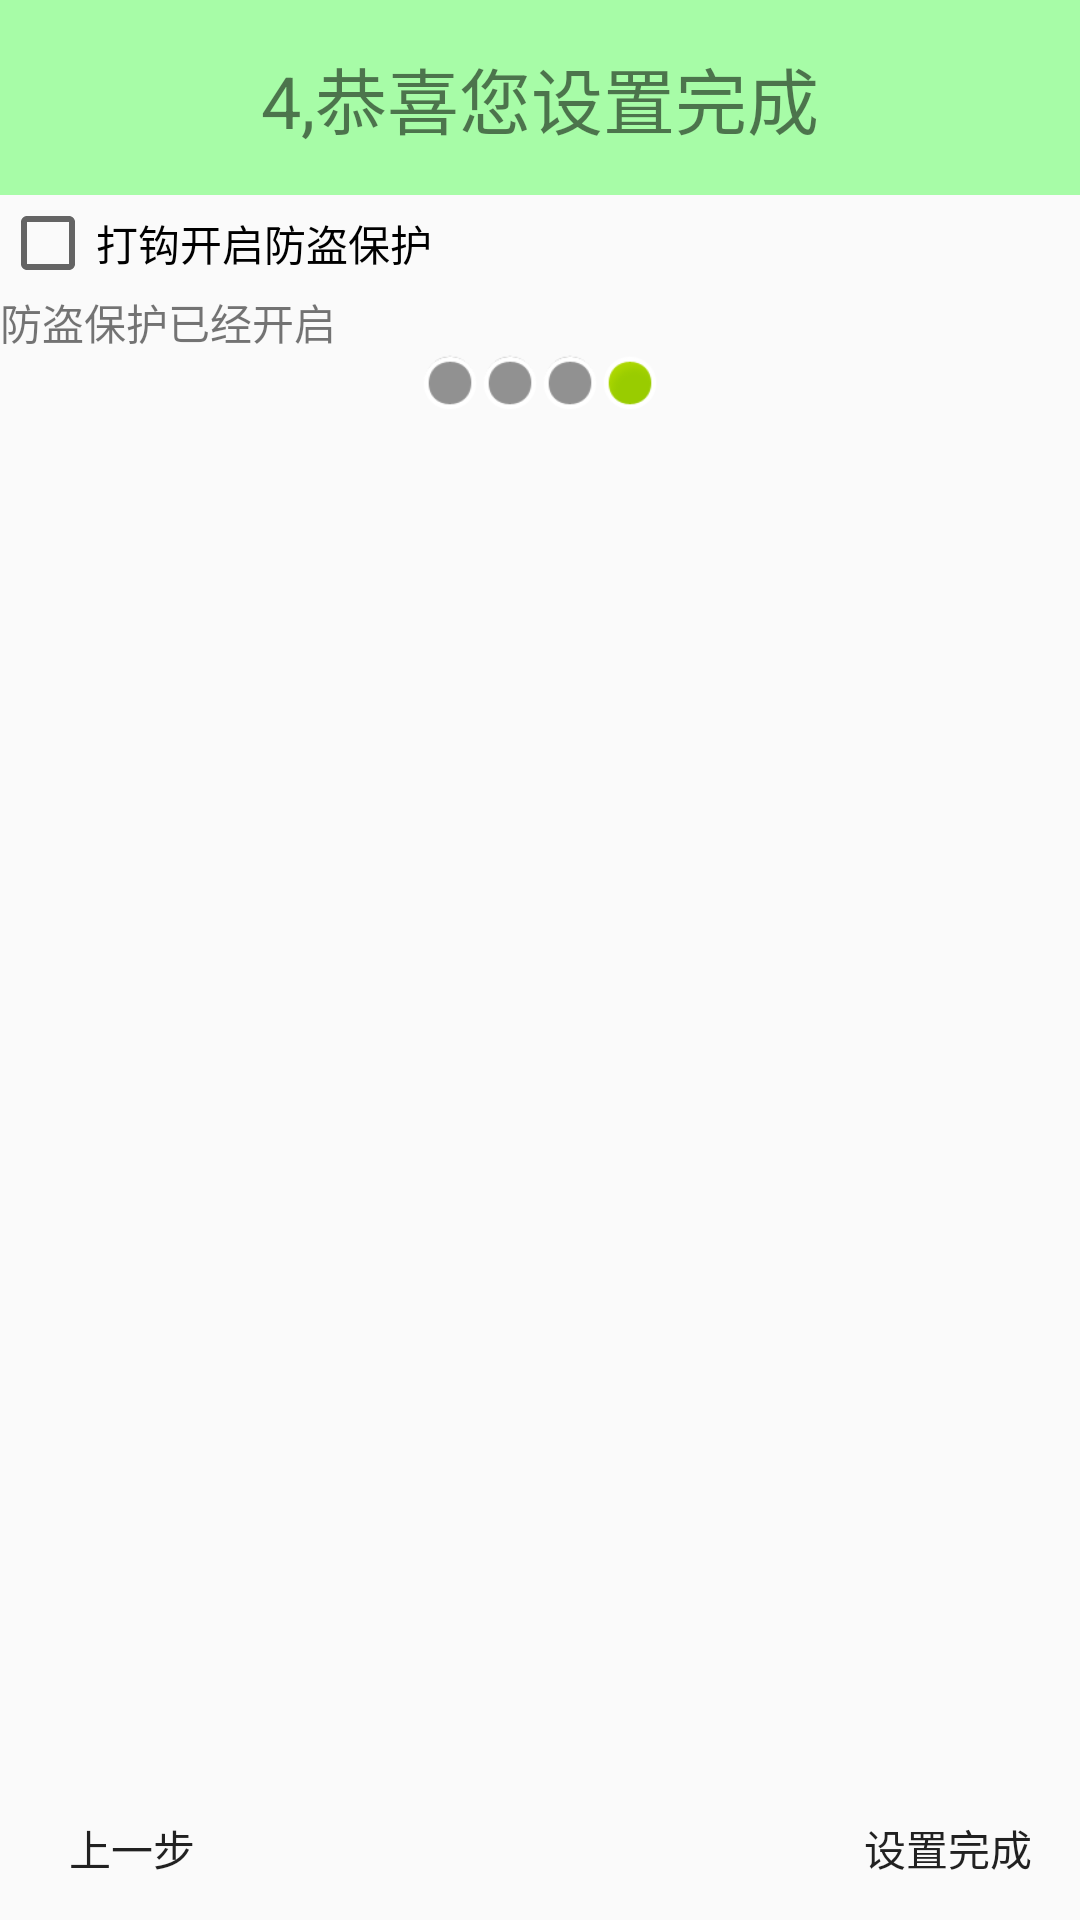

Icon click points for this 1080*1920 phone screenshot, format point (x, y):
presence invisible: point (450, 381), point (510, 381), point (570, 381)
presence online: point (630, 383)
